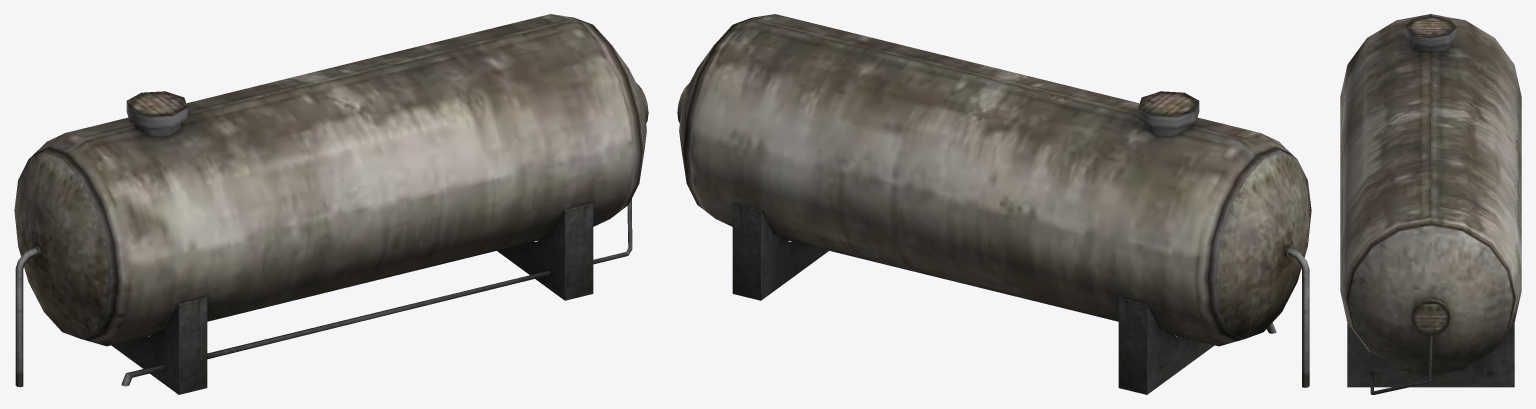
File: horizontalcoolingtank04.glb
The picture shows the model from 3 angles, left to right: view 1: azimuth 30°, elevation 25°; view 2: azimuth 150°, elevation 25°; view 3: azimuth 270°, elevation 25°; orthographic projection. The views are drawn at different scales.
Visible parts, largest first — view 1: 0_horizontalcoolingtank04; view 2: 0_horizontalcoolingtank04; view 3: 0_horizontalcoolingtank04.
Part boxes in pixels (x1=…): 0_horizontalcoolingtank04: x1=14, y1=14, x2=648, y2=394; 0_horizontalcoolingtank04: x1=677, y1=14, x2=1311, y2=394; 0_horizontalcoolingtank04: x1=1340, y1=14, x2=1521, y2=394.
Bounding box in the file's own units: 7.99 × 3.07 × 2.44.
Materials: 1 (1 with a texture image).
